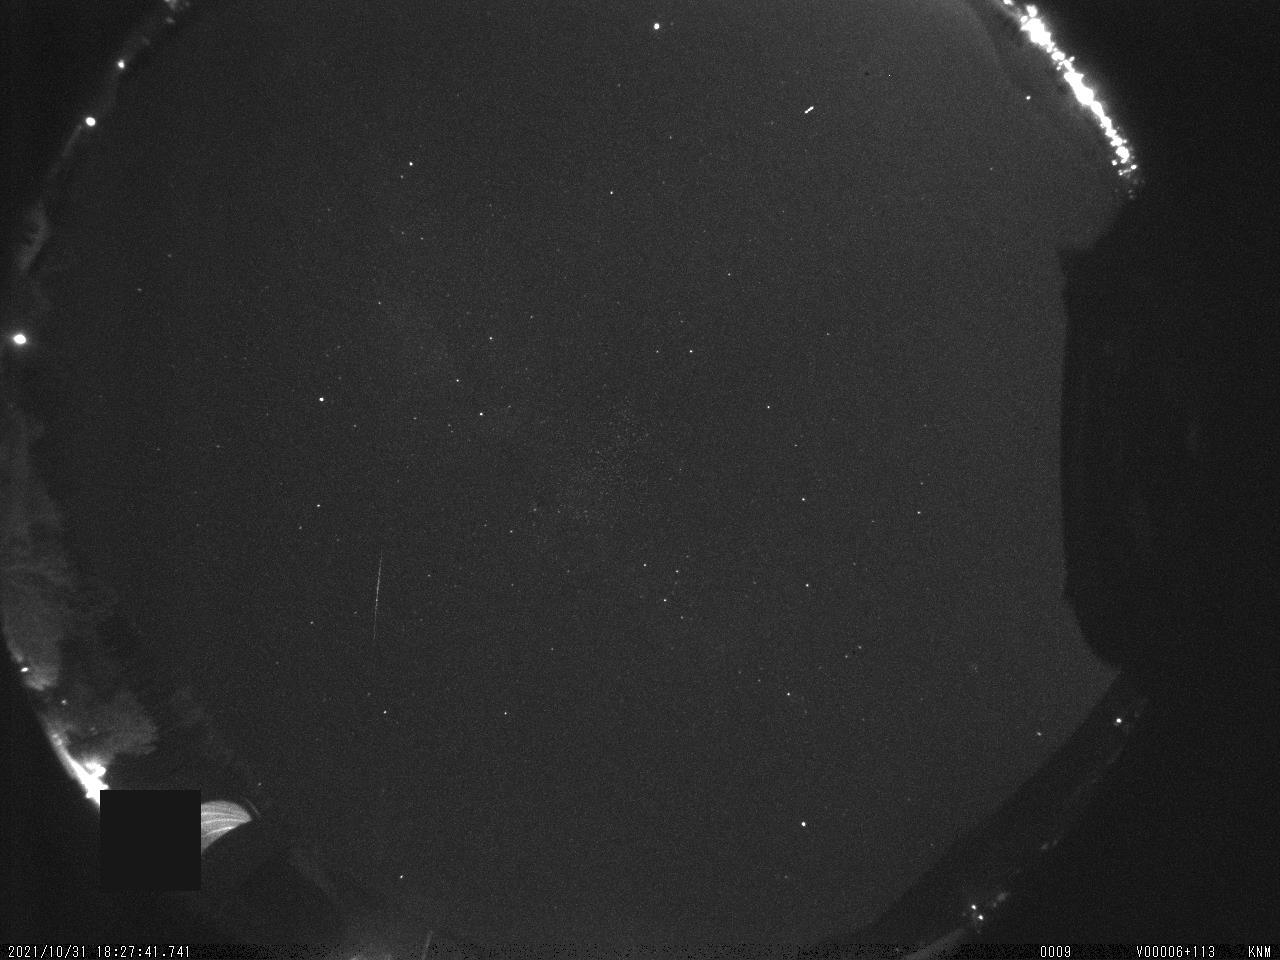meteor: (353, 542, 402, 661)
